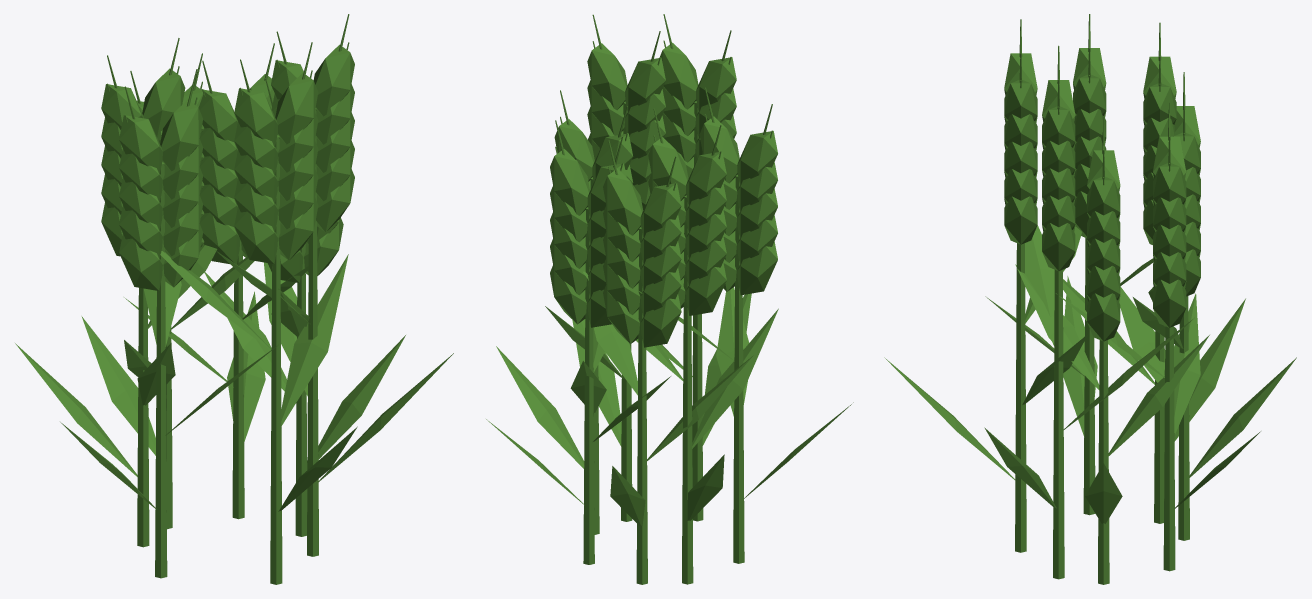
Rendered from wheat_stage_2.glb.
3 renders of one model, left to right at view 1: azimuth 30°, elevation 25°; view 2: azimuth 150°, elevation 25°; view 3: azimuth 270°, elevation 25°, orthographic. The views are drawn at different scales.
Visible parts, largest first — view 1: wheat_stage_2_Mesh; view 2: wheat_stage_2_Mesh; view 3: wheat_stage_2_Mesh.
Boxes of the visible parts, bbox=[...] form: wheat_stage_2_Mesh: bbox=[15, 14, 453, 584]; wheat_stage_2_Mesh: bbox=[486, 14, 853, 584]; wheat_stage_2_Mesh: bbox=[884, 14, 1296, 584].
Size of the model in its own units: 0.5402 by 0.7502 by 0.5482.
